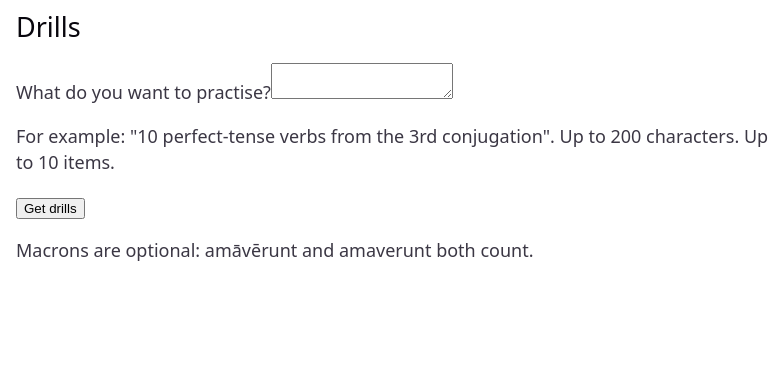
Test: shows each item with its own answer box
This screenshot has width=784, height=377.
Type "rego perfect, rex plural" into the text box labelled "What do you want to practise?" at (362, 81), box [271, 63, 453, 99]
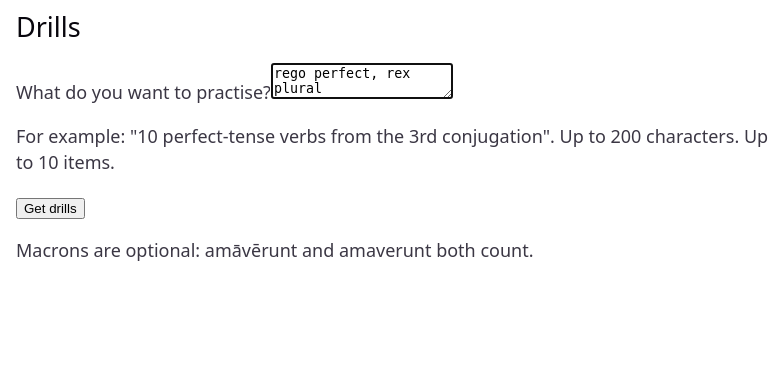
Click the button "Get drills" at (50, 209), box [16, 198, 85, 219]
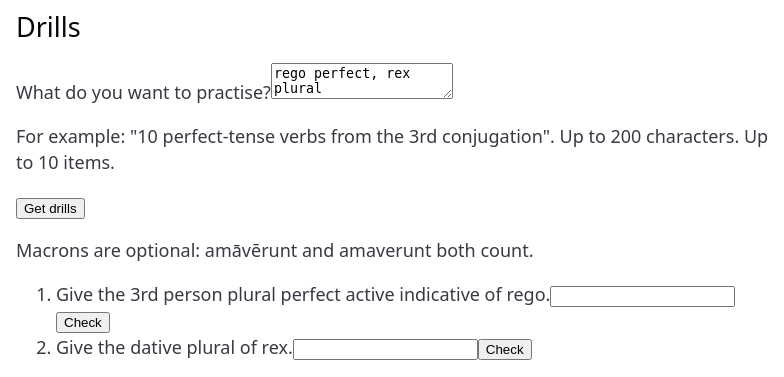
Expected: the text "Give the 3rd person plural perfect active indicative of rego." is shown, [56, 282, 735, 306]
Expected: the field labelled "Give the 3rd person plural perfect active indicative of rego." is shown, [550, 286, 735, 307]
Expected: the text "Give the dative plural of rex." is shown, [56, 335, 478, 359]
